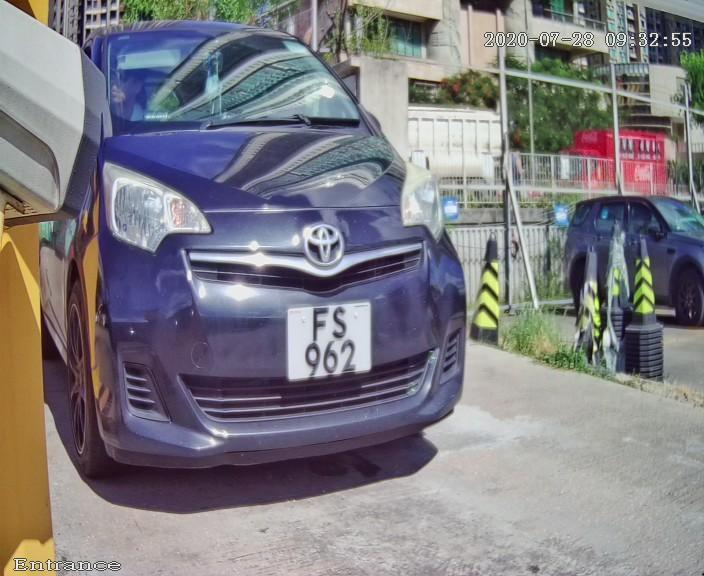privatecar: (7, 11, 538, 520)
